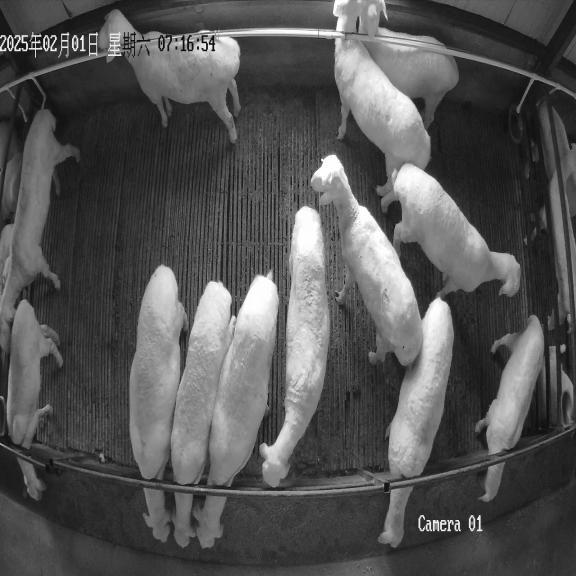eating: (193, 271, 279, 548), (378, 298, 454, 548), (171, 281, 233, 547), (129, 265, 188, 542), (475, 315, 544, 501), (6, 299, 63, 500)
stand: (311, 155, 422, 366), (333, 0, 430, 212), (260, 206, 330, 487), (98, 9, 241, 143), (381, 163, 520, 298), (0, 108, 80, 322), (358, 0, 459, 128)
